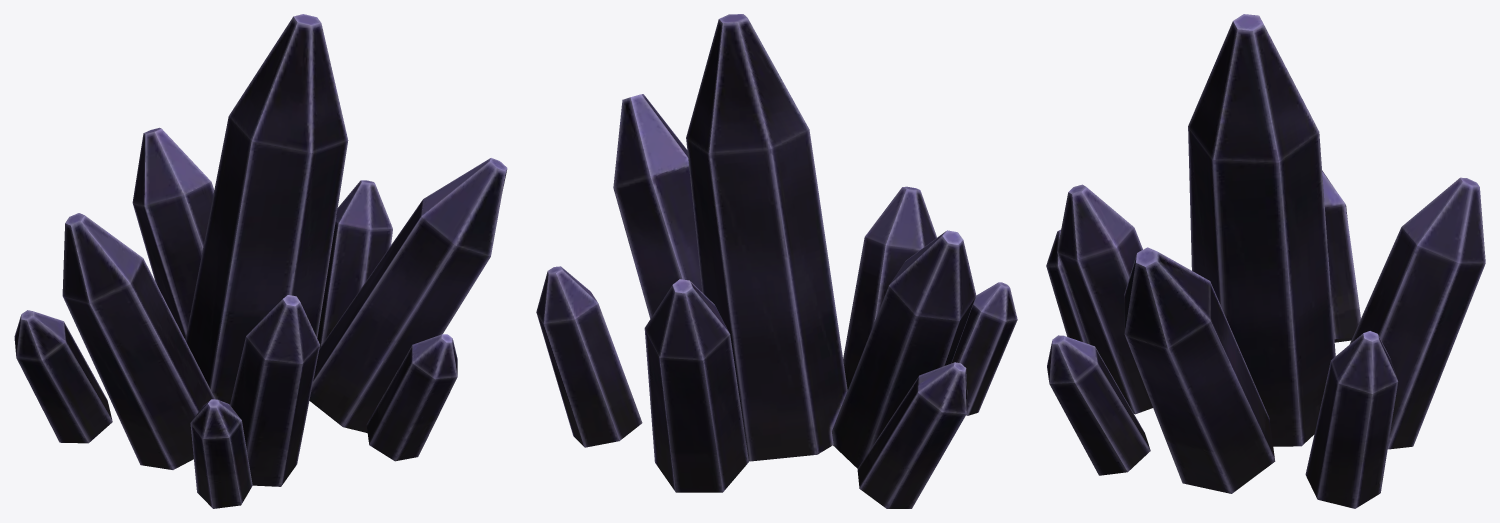
File: obsidian.glb
3 renders of one model, left to right at view 1: azimuth 30°, elevation 25°; view 2: azimuth 150°, elevation 25°; view 3: azimuth 270°, elevation 25°, orthographic. The views are drawn at different scales.
Visible parts, largest first — view 1: Static_Mesh; view 2: Static_Mesh; view 3: Static_Mesh.
Boxes of the visible parts, x1,y1,x2,y2 form: Static_Mesh: (14,14,507,508); Static_Mesh: (536,14,1017,508); Static_Mesh: (1046,14,1485,508).
Bounding box in the file's own units: 1.86 × 1.76 × 1.59.
1 material, 1 textured.
